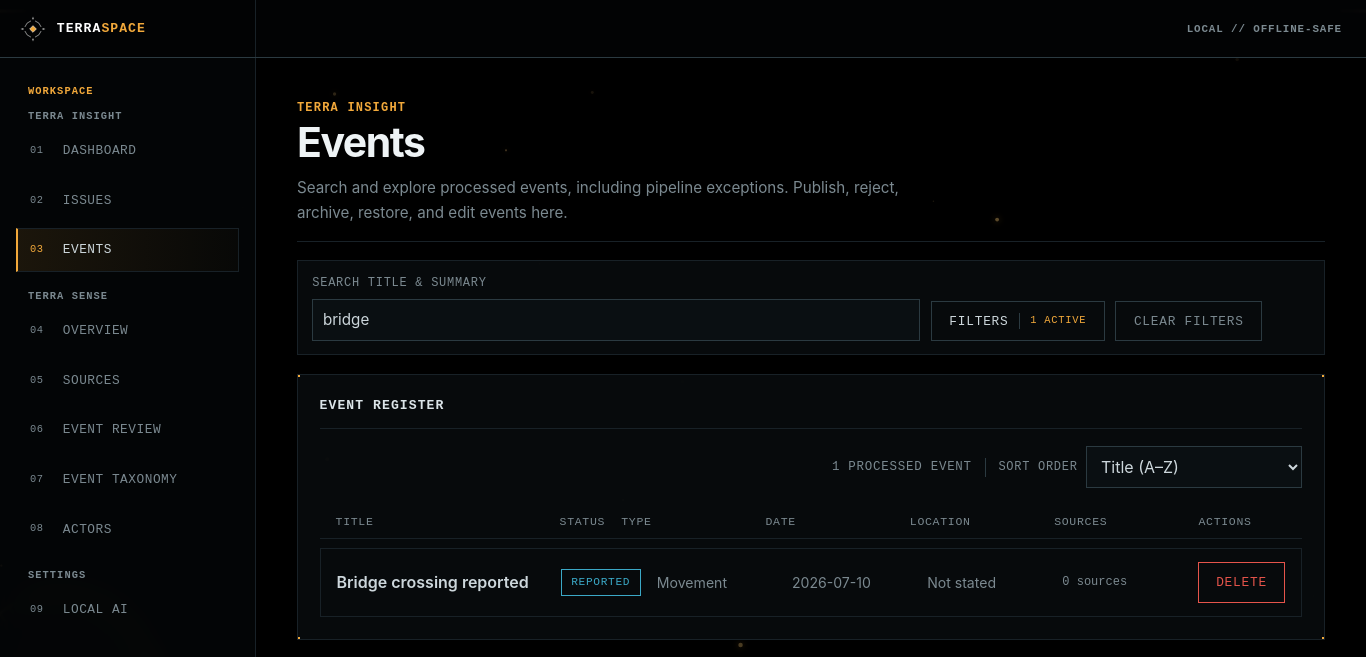
Scenario: EventsPage › edits an event and shows the saved result
The image size is (1366, 657).
Click the button "Bridge crossing reported". click: click(441, 583)
box: [337, 572, 545, 593]
(page scrolled)
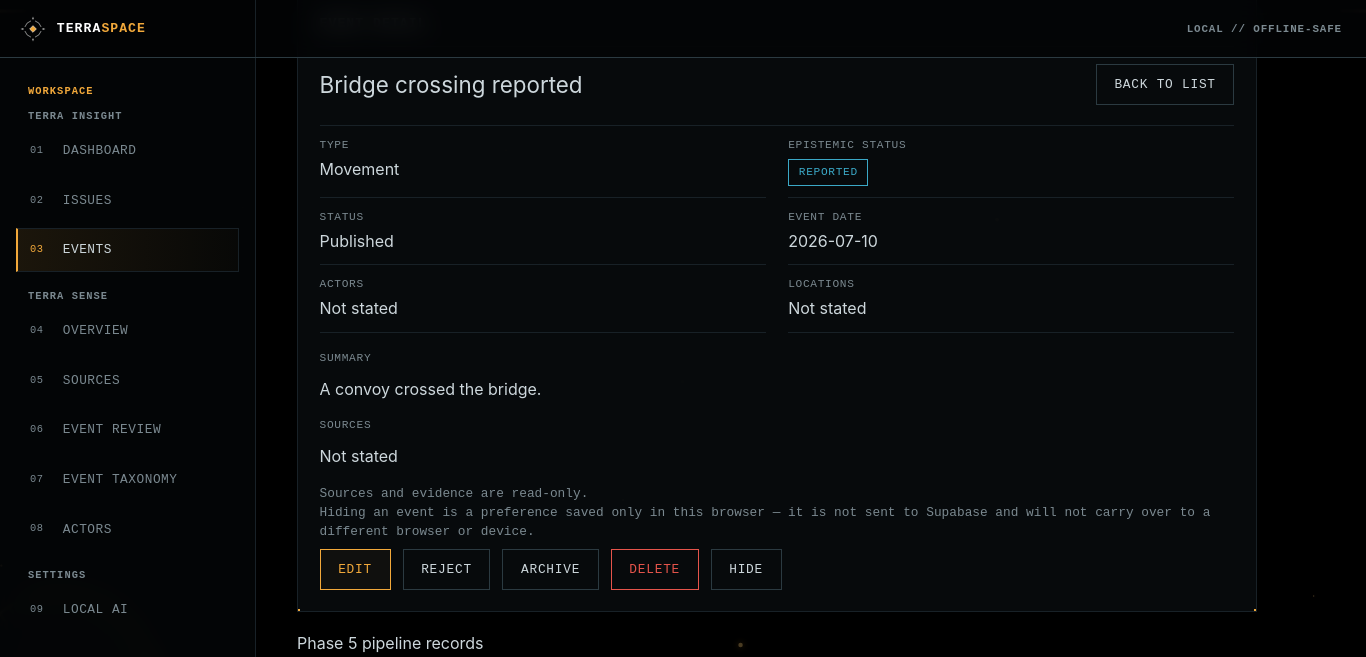
Click the button "Edit". click: click(355, 569)
box: [320, 549, 391, 590]
(page scrolled)
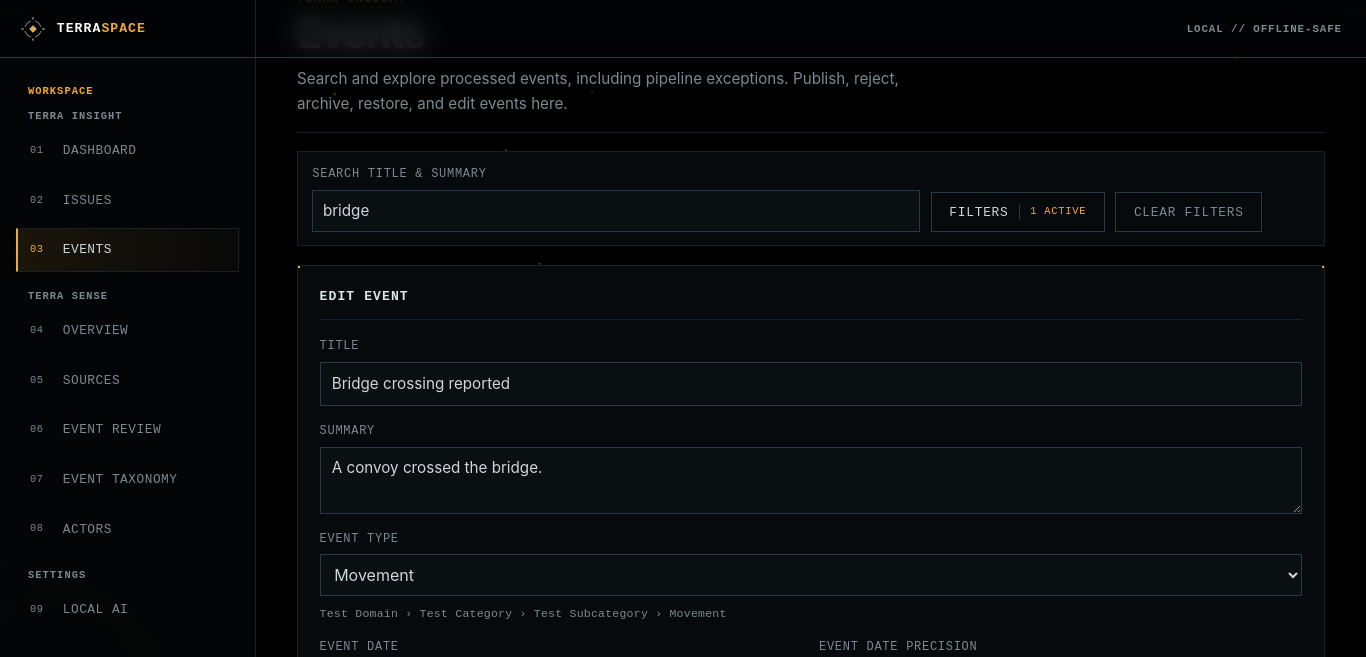
Replace the text in the field labelled "Title" with "Updated title". click: (811, 384)
box: [320, 362, 1302, 406]
(page scrolled)
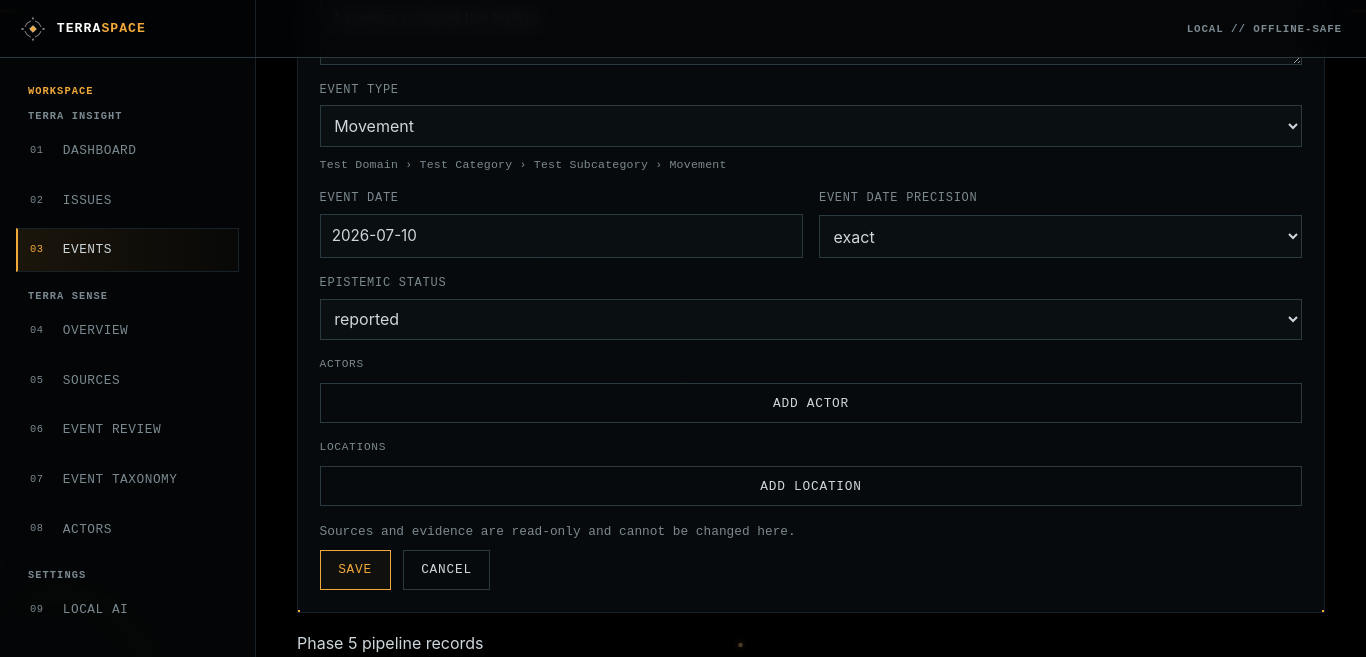
Click the button "Save". click: click(355, 570)
box: [320, 550, 391, 590]
(page scrolled)
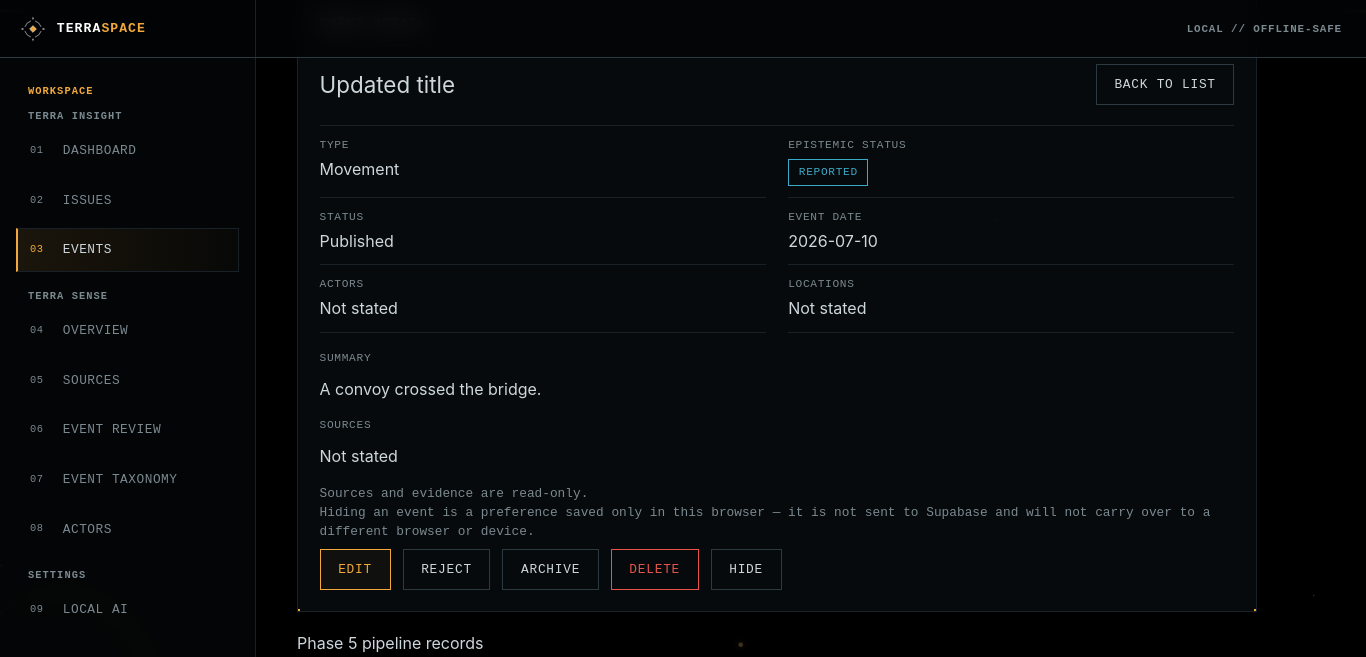
Check: the heading "Updated title" is shown, box [320, 68, 455, 101]
